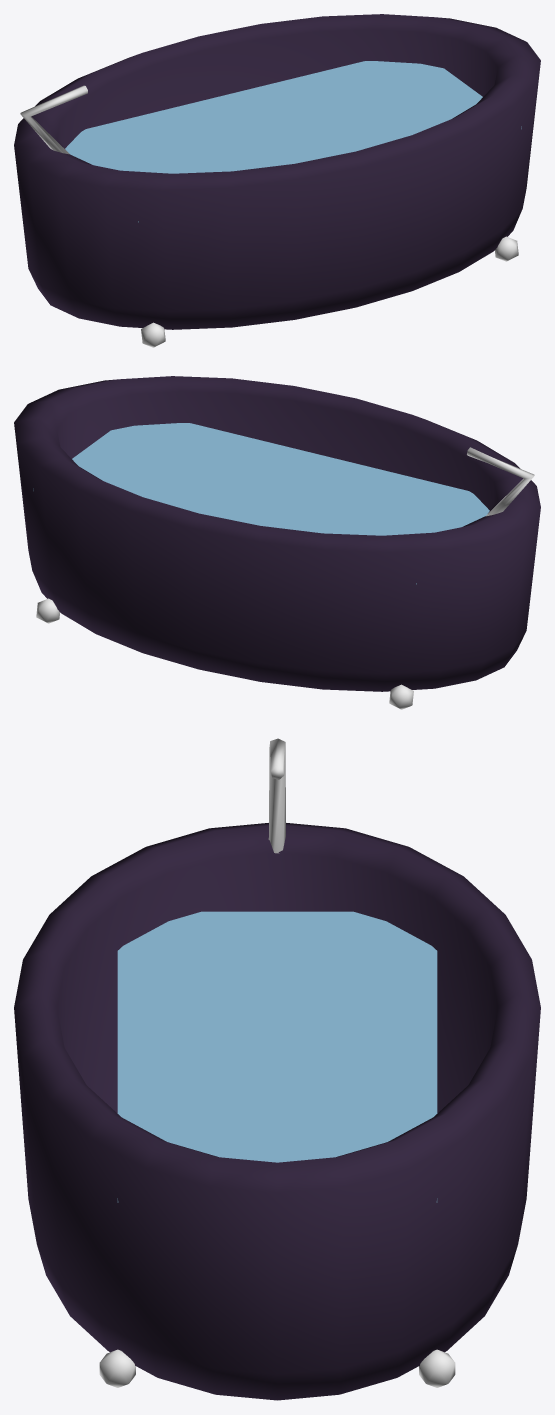
File: obsidian_bathtub_v0.glb
The picture shows the model from 3 angles, top to bottom: view 1: azimuth 30°, elevation 25°; view 2: azimuth 150°, elevation 25°; view 3: azimuth 270°, elevation 25°; orthographic projection. The views are drawn at different scales.
Visible parts, largest first — view 1: obsidian_bathtub_v0; view 2: obsidian_bathtub_v0; view 3: obsidian_bathtub_v0.
Boxes of the visible parts, <box> form: obsidian_bathtub_v0: <box>14,14,540,347</box>; obsidian_bathtub_v0: <box>14,376,540,709</box>; obsidian_bathtub_v0: <box>14,738,540,1400</box>.
Size of the model in its own units: 2.51 by 1.08 by 1.49.
